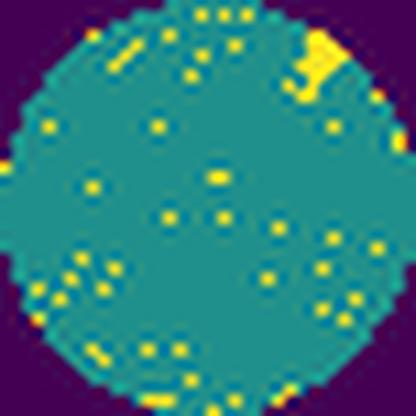Loc: (281, 28, 351, 103)
